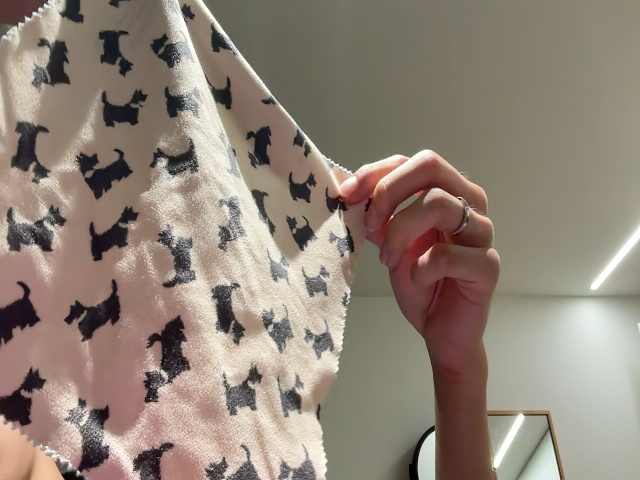towel: (1, 3, 376, 480)
